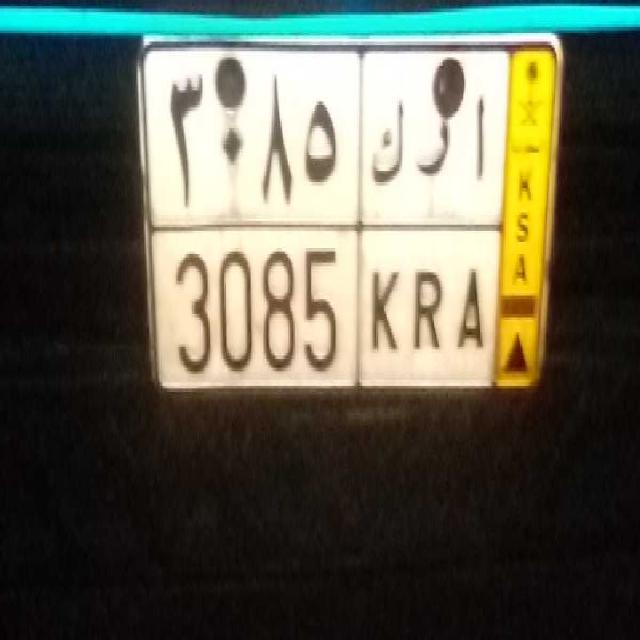license_plate: (162, 234, 490, 383)
